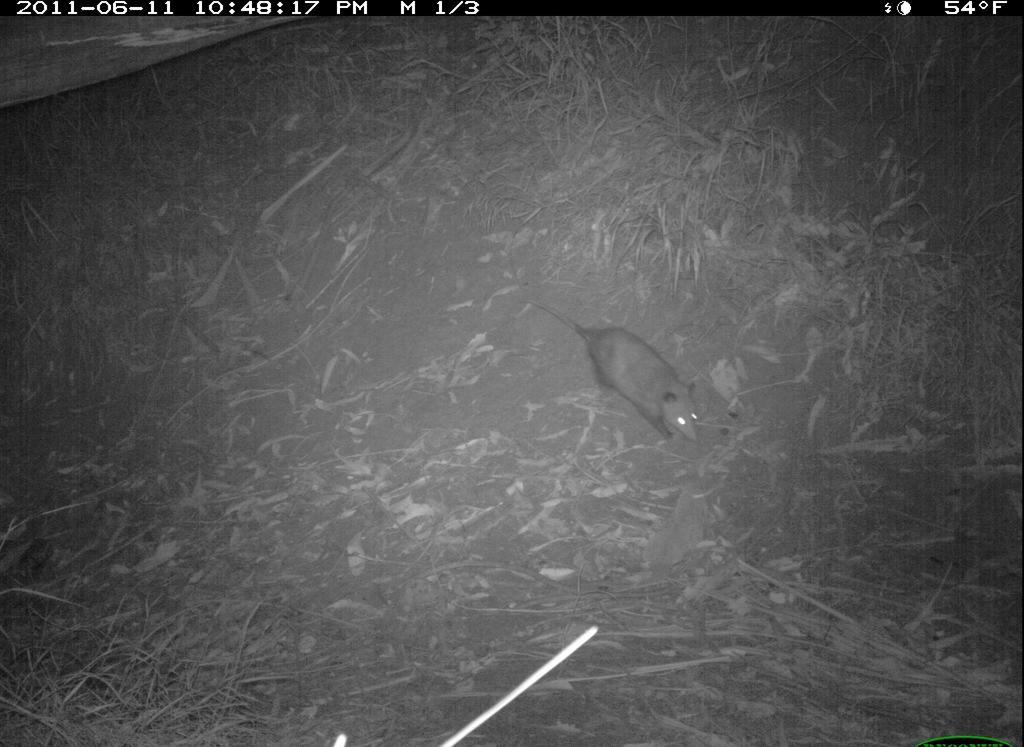opossum: (515, 277, 713, 455)
